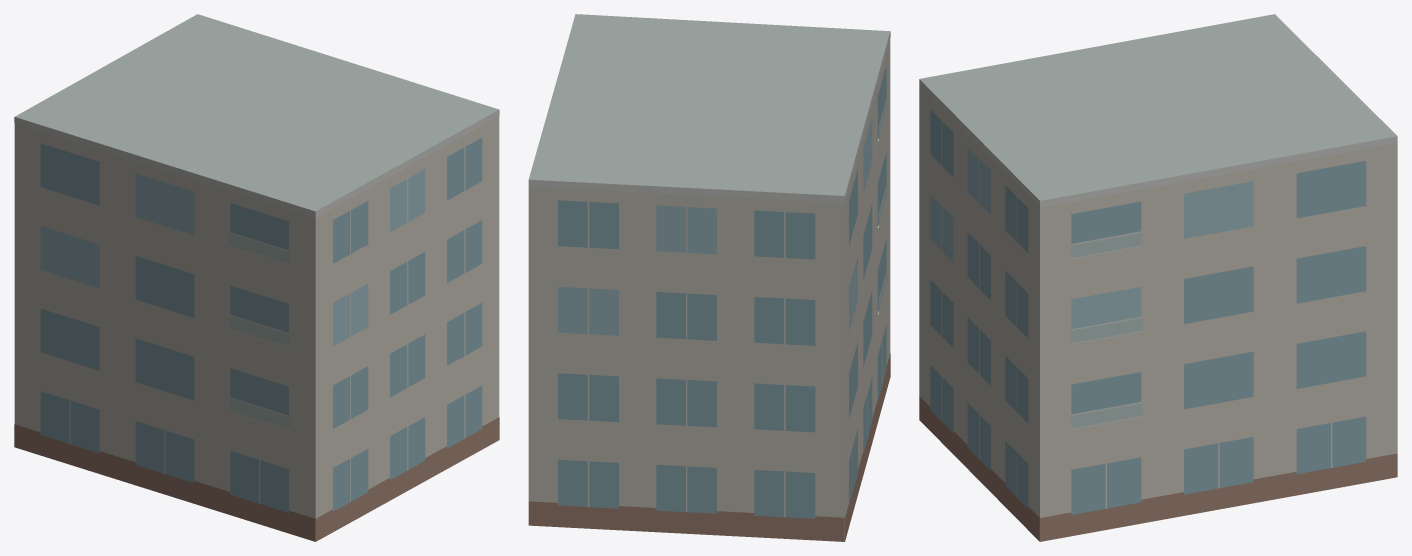
File: survey-upis-32795203.glb
3 renders of one model, left to right at view 1: azimuth 30°, elevation 25°; view 2: azimuth 150°, elevation 25°; view 3: azimuth 270°, elevation 25°, orthographic. The views are drawn at different scales.
Parts seen in each view (by area): view 1: survey-upis-32795203.tmp; view 2: survey-upis-32795203.tmp; view 3: survey-upis-32795203.tmp.
Boxes of the visible parts, bbox=[...] form: survey-upis-32795203.tmp: bbox=[14, 14, 499, 541]; survey-upis-32795203.tmp: bbox=[528, 14, 890, 541]; survey-upis-32795203.tmp: bbox=[919, 14, 1397, 541].
Bounding box in the file's own units: 14.35 × 12.2 × 15.52.
